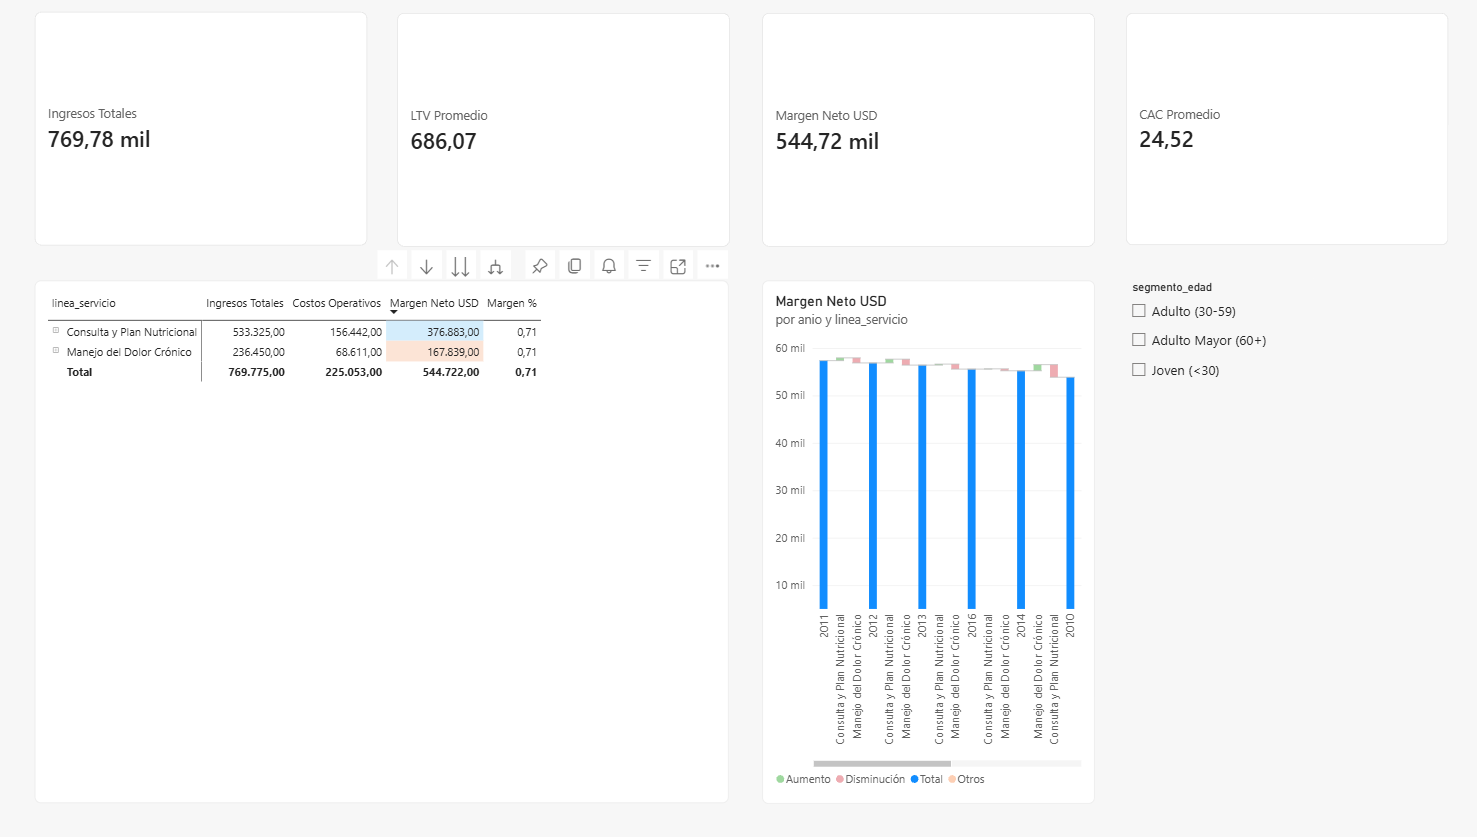

The dashboard page shown, as its layout file describes it:
{"tool":"powerbi","page":{"name":"Página 1","canvas":[1920,1080],"ordinal":0},"visuals":[{"type":"cardVisual","fields":{"Data":["fact_finanzas_clinica.Ingresos Totales"]},"box":[74.2,23.3,424,298.9],"z":0},{"type":"cardVisual","fields":{"Data":["fact_finanzas_clinica.Margen Neto USD"]},"box":[1002.8,25.4,424,298.9],"z":1000},{"type":"cardVisual","fields":{"Data":["fact_finanzas_clinica.LTV Promedio"]},"box":[536.4,25.4,424,298.9],"z":2000},{"type":"cardVisual","fields":{"Data":["fact_finanzas_clinica.CAC Promedio"]},"box":[1467.1,25.4,411.3,296.8],"z":3000},{"type":"pivotTable","fields":{"Rows":["fact_finanzas_clinica.linea_servicio","fact_finanzas_clinica.descripcion_tratamiento"],"Values":["fact_finanzas_clinica.Ingresos Totales","fact_finanzas_clinica.Costos Operativos","fact_finanzas_clinica.Margen Neto USD","fact_finanzas_clinica.Margen %"]},"box":[75,366.7,885,666.7],"z":4000},{"type":"waterfallChart","fields":{"Breakdown":["fact_finanzas_clinica.linea_servicio"],"Category":["dim_calendario.anio"],"Y":["fact_finanzas_clinica.Margen Neto USD"]},"box":[1003,367,424,667],"z":4001},{"type":"slicer","fields":{"Values":["dim_pacientes.segmento_edad"]},"box":[1467,367,411,667],"z":4002}]}

Visuals, with their boxes on the page's 1920x1080 design canvas (x1, y1, x2, y2). These are canvas units, not pixel positions in the 1477x837 screenshot, which may show the page scaled, cropped or inside an application window:
cardVisual - fact_finanzas_clinica.Ingresos Totales: 74,23,498,322
cardVisual - fact_finanzas_clinica.Margen Neto USD: 1003,25,1427,324
cardVisual - fact_finanzas_clinica.LTV Promedio: 536,25,960,324
cardVisual - fact_finanzas_clinica.CAC Promedio: 1467,25,1878,322
pivotTable - fact_finanzas_clinica.linea_servicio x fact_finanzas_clinica.descripcion_tratamiento: 75,367,960,1033
waterfallChart - fact_finanzas_clinica.linea_servicio x dim_calendario.anio: 1003,367,1427,1034
slicer - dim_pacientes.segmento_edad: 1467,367,1878,1034
